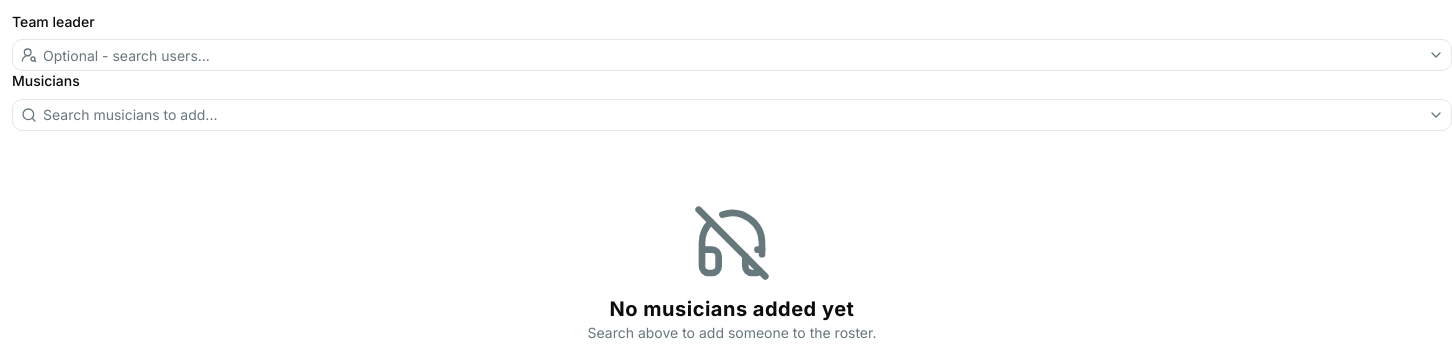
Test: TeamMembershipFields › adds a musician when selected from the combobox
The width and height of the screenshot is (1452, 356).
Click the dropdown with placeholder "Search musicians to add..." at (730, 114), box [37,98,1424,130]
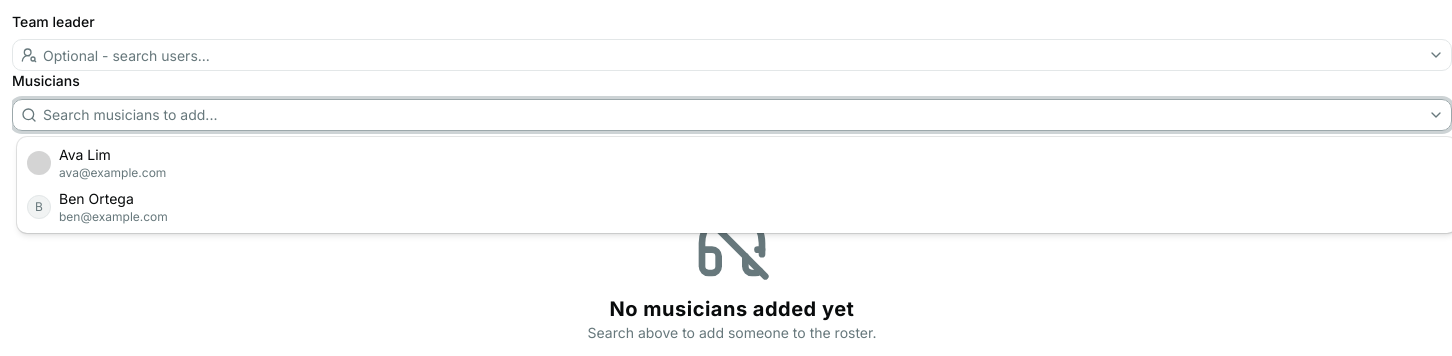
Click the text "Ava Lim" at (85, 154), box [59,146,111,163]
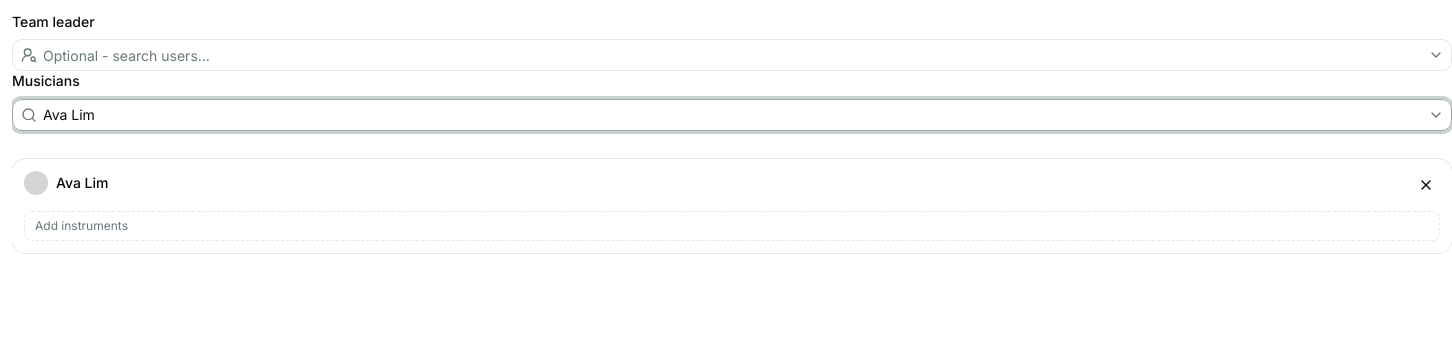
expect the text "Add instruments" is shown: met, box [31,218,132,234]
